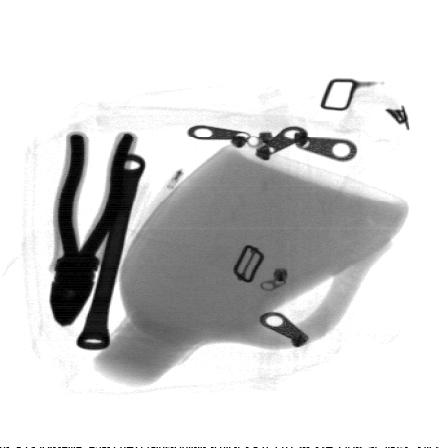Pliers: (51, 131, 137, 327)
Wrench: (75, 151, 150, 352)
